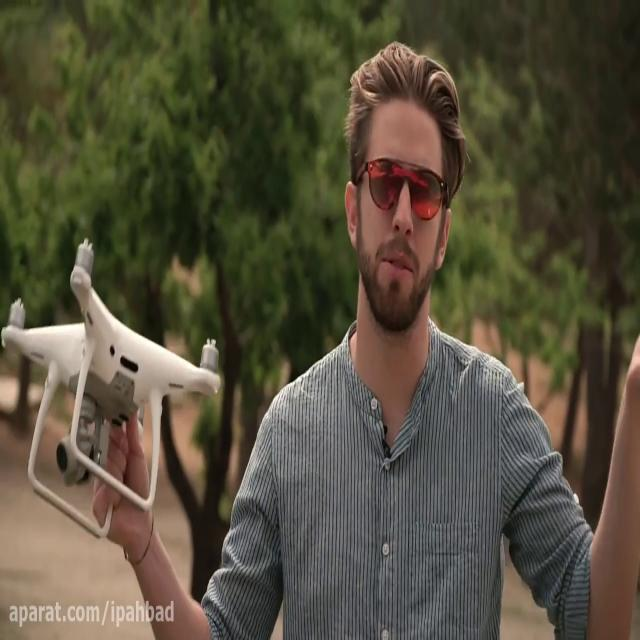drone: (0, 236, 222, 544)
